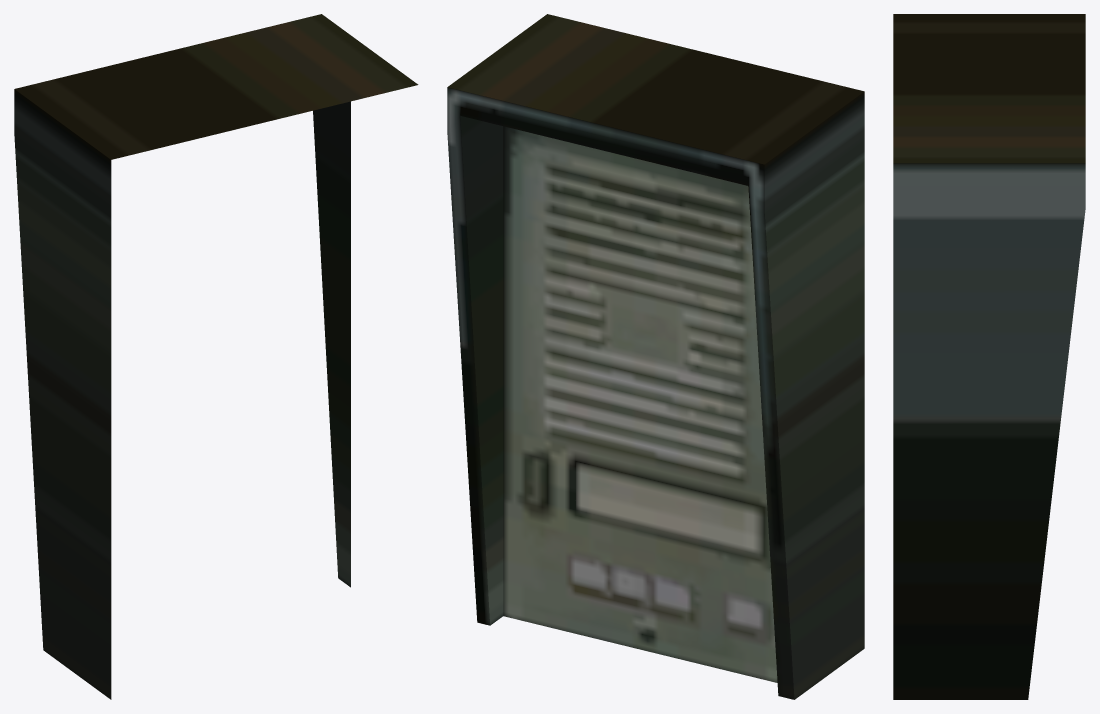
File: TM1_Intercom.glb
3 views of the same model, side by side, from view 1: azimuth 30°, elevation 25°; view 2: azimuth 150°, elevation 25°; view 3: azimuth 270°, elevation 25° (orthographic). The views are drawn at different scales.
Parts seen in each view (by area): view 1: TM1_INTERCOM; view 2: TM1_INTERCOM; view 3: TM1_INTERCOM.
Boxes of the visible parts, x1,y1,x2,y2 form: TM1_INTERCOM: (14,14,418,699); TM1_INTERCOM: (447,14,864,699); TM1_INTERCOM: (893,14,1085,699).
Size of the model in its own units: 0.196 by 0.329 by 0.107.
Materials: 1 (1 with a texture image).
